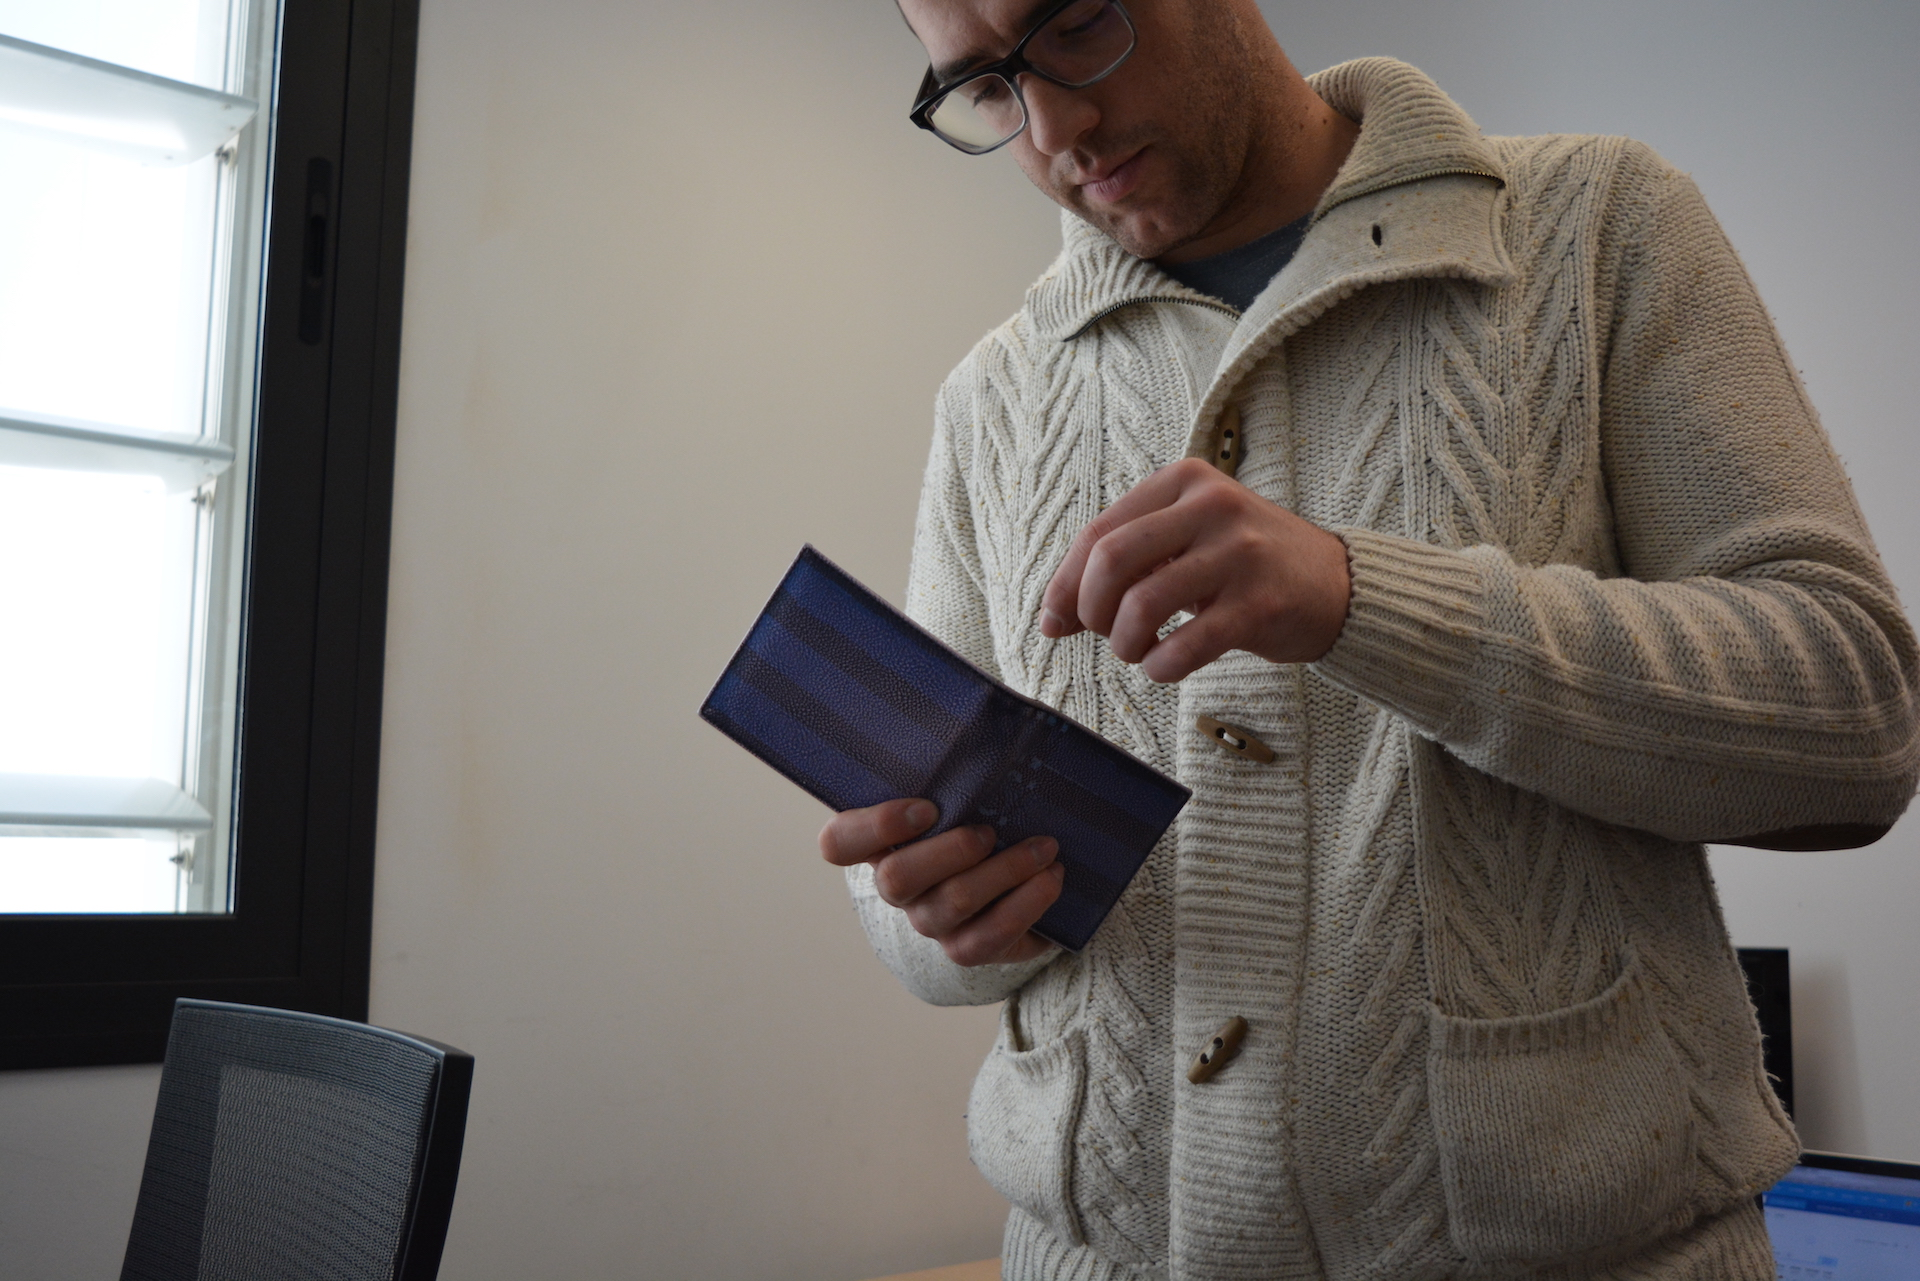monedero: (695, 540, 1197, 958)
